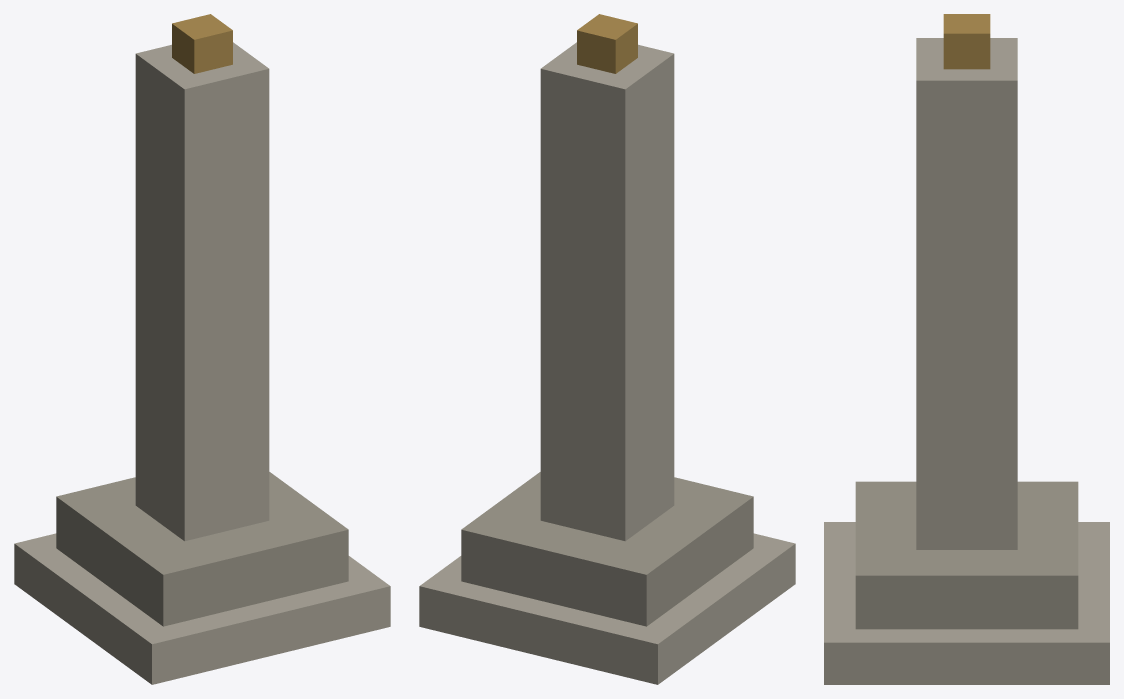
File: furniture-memorial.glb
3 renders of one model, left to right at view 1: azimuth 30°, elevation 25°; view 2: azimuth 150°, elevation 25°; view 3: azimuth 270°, elevation 25°, orthographic. The views are drawn at different scales.
Bounding box in the file's own units: 1.35 × 3.13 × 1.35.
